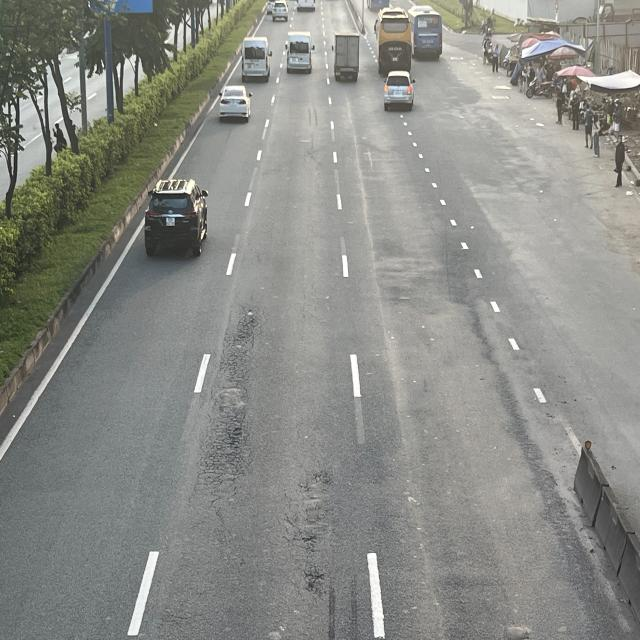car: (142, 178, 208, 255), (217, 82, 253, 120), (382, 72, 416, 112), (272, 0, 288, 21)
coach: (374, 7, 410, 76), (411, 7, 444, 59)
truck: (334, 32, 361, 82)
van: (242, 37, 272, 83), (286, 31, 315, 73)
